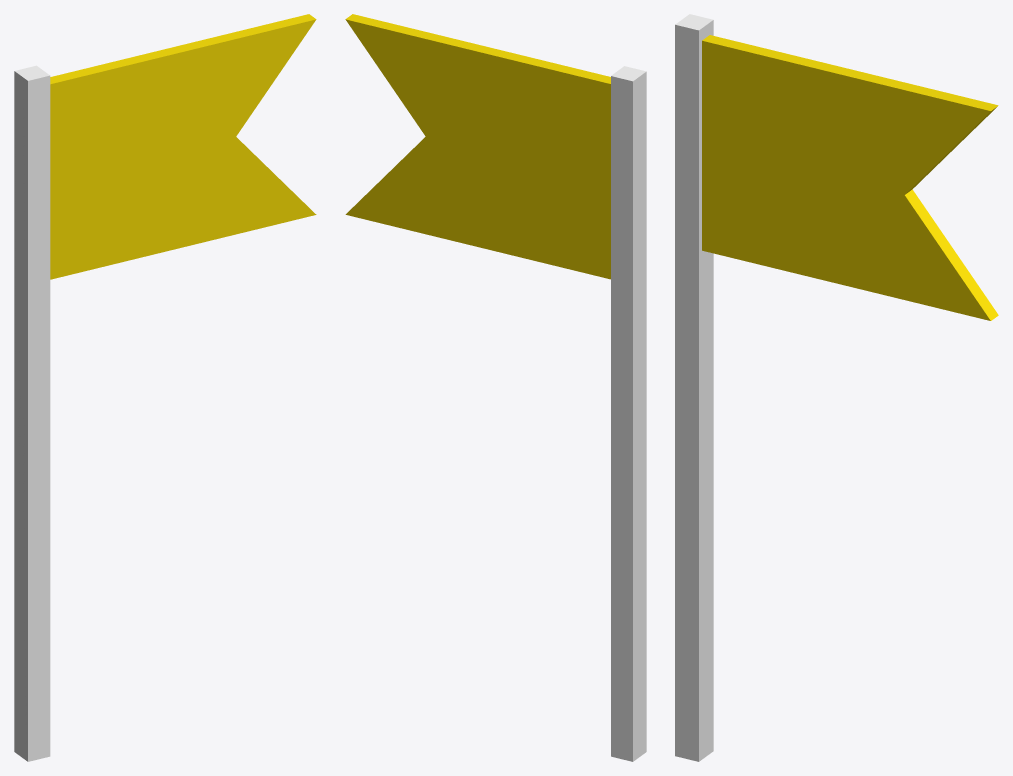
The model's file is advanced-goal.glb.
3 views of the same model, side by side, from view 1: azimuth 30°, elevation 25°; view 2: azimuth 150°, elevation 25°; view 3: azimuth 330°, elevation 25° (orthographic). The views are drawn at different scales.
Parts seen in each view (by area): view 1: Cube.002, Cube; view 2: Cube.002, Cube; view 3: Cube.002, Cube.
Part boxes in pixels (x1=…): Cube.002: x1=50, y1=14, x2=316, y2=279; Cube: x1=14, y1=65, x2=50, y2=761; Cube.002: x1=345, y1=14, x2=610, y2=279; Cube: x1=611, y1=66, x2=646, y2=761; Cube.002: x1=702, y1=35, x2=998, y2=320; Cube: x1=675, y1=14, x2=713, y2=761.
Size of what is drawn, in the model's own units: 3.82 by 8.54 by 0.3094.
